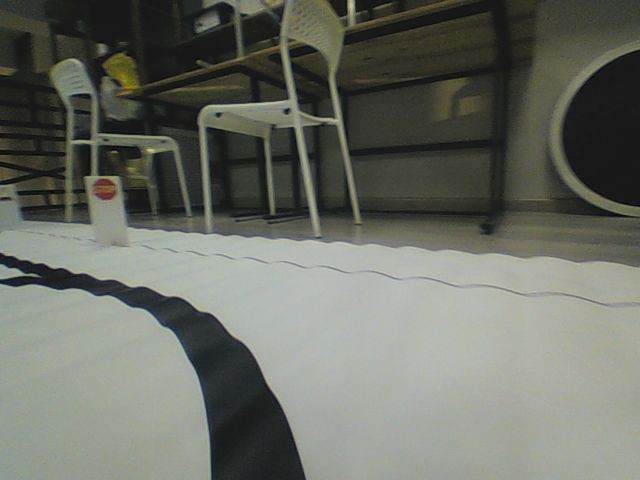Stop: (90, 176, 117, 200)
